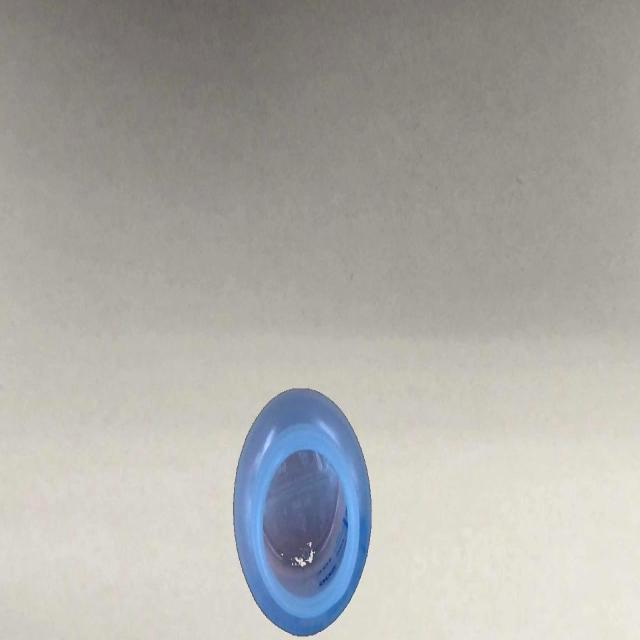bottle: (231, 384, 373, 640)
